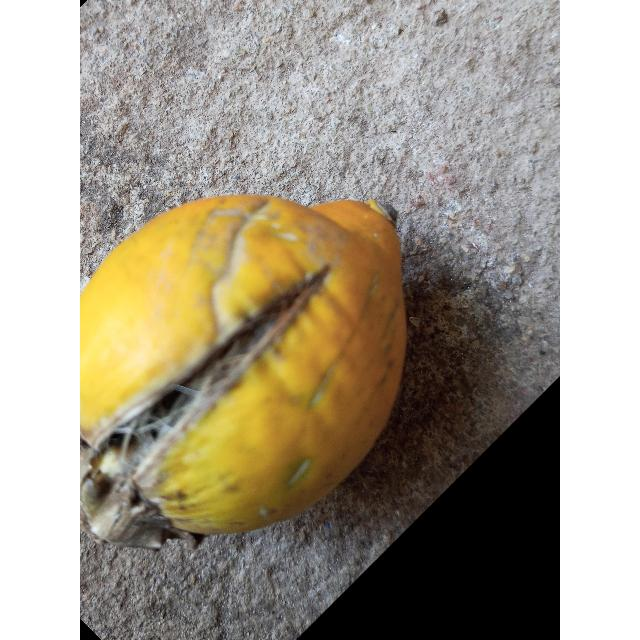damaged: (80, 195, 406, 549)
